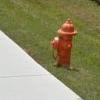Hydrant: (40, 5, 82, 69)
